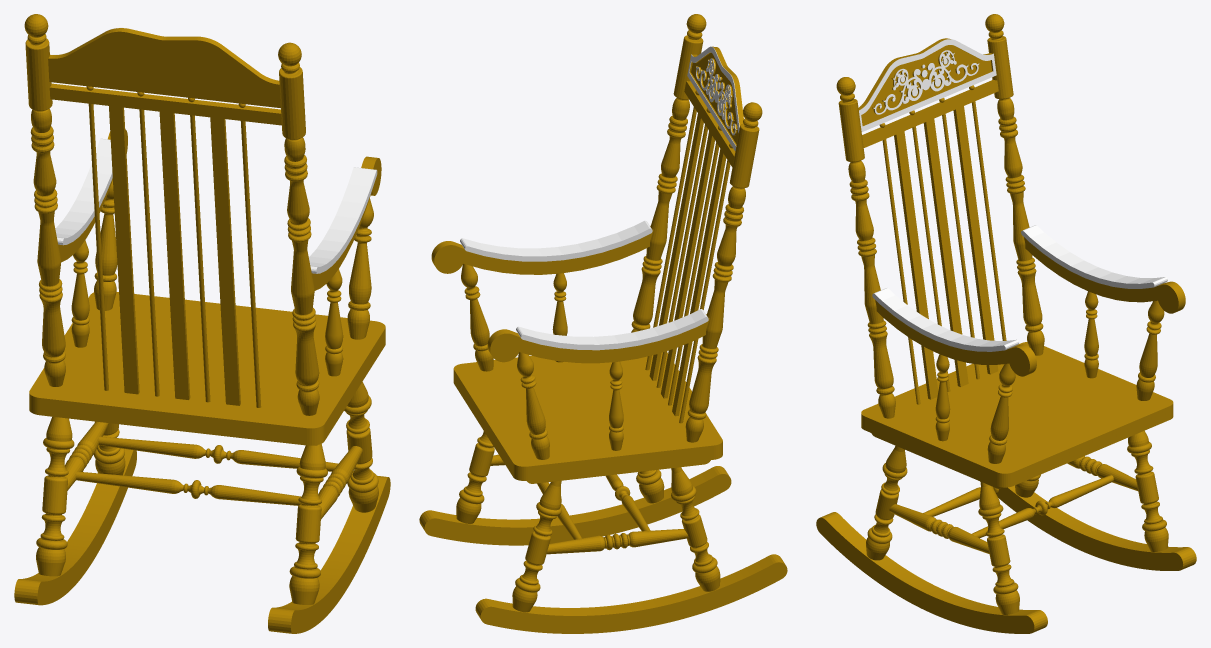
3 renders of one model, left to right at view 1: azimuth 30°, elevation 25°; view 2: azimuth 150°, elevation 25°; view 3: azimuth 270°, elevation 25°, orthographic. The views are drawn at different scales.
Parts seen in each view (by area): view 1: Object_42, Object_16, Object_27, Object_21, Object_41, Object_35, Object_4, Object_2, Object_3, Object_18, Object_38, Object_45 (+20 smaller); view 2: Object_42, Object_35, Object_41, Object_21, Object_27, Object_26, Object_20, Object_19, Object_25, Object_40, Object_38, Object_16 (+19 smaller); view 3: Object_42, Object_41, Object_27, Object_21, Object_35, Object_16, Object_2, Object_3, Object_4, Object_26, Object_20, Object_25 (+19 smaller).
Part boxes in pixels (x1,y1,x2,y2): Object_42: (29,292,385,445); Object_16: (48,28,280,108); Object_27: (278,42,319,415); Object_21: (24,14,65,386); Object_41: (268,475,390,633); Object_35: (14,449,136,605); Object_4: (210,117,240,405); Object_2: (109,106,139,394); Object_3: (159,111,190,399); Object_18: (49,83,281,125); Object_38: (36,438,74,576); Object_45: (289,467,327,604); Object_42: (453,352,722,480); Object_35: (475,554,787,633); Object_41: (419,466,731,545); Object_21: (685,102,762,442); Object_27: (631,14,706,332); Object_26: (431,226,653,274); Object_20: (487,314,709,363); Object_19: (516,309,708,350); Object_25: (460,220,652,261); Object_40: (512,502,561,612); Object_38: (671,486,720,591); Object_16: (689,46,743,145); Object_42: (861,342,1173,487); Object_41: (816,512,1047,633); Object_27: (836,77,895,418); Object_21: (985,14,1044,355); Object_35: (996,485,1196,570); Object_16: (858,38,992,125); Object_2: (953,106,998,374); Object_3: (923,119,968,386); Object_4: (894,131,938,399); Object_26: (875,300,1036,376); Object_20: (1024,237,1185,313); Object_25: (872,288,1019,351).
Size of the model in its own units: 0.9948 by 1.42 by 0.9948.
